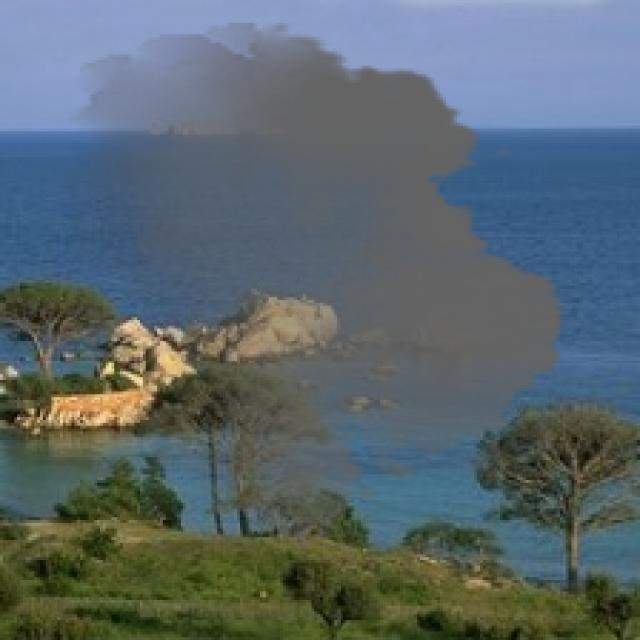smoke: (51, 23, 583, 554)
